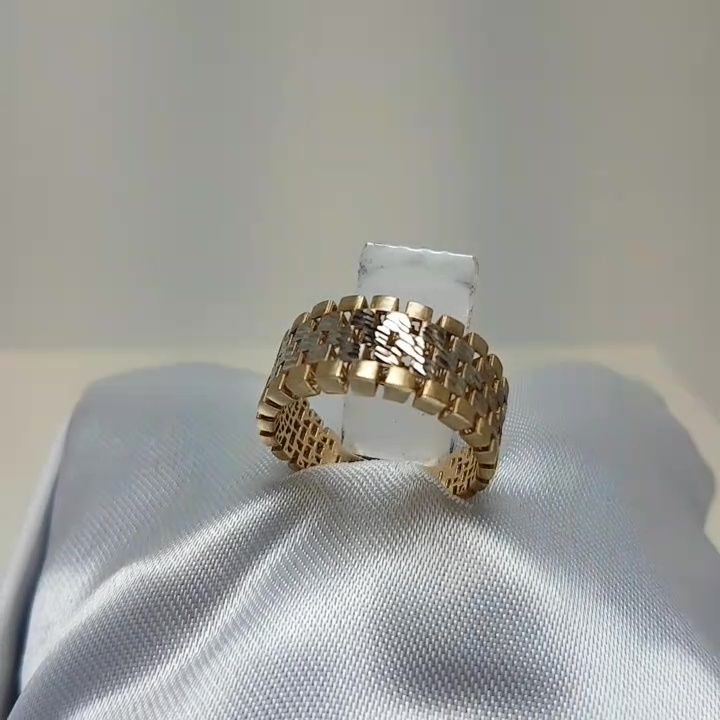Ring 1: (243, 288, 515, 523)
